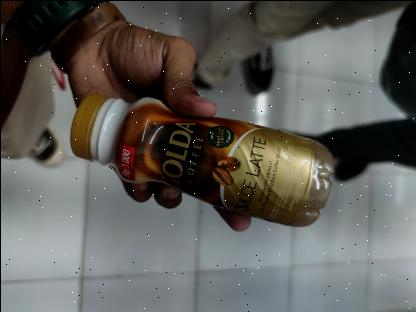Plastic Bottle: (69, 92, 334, 226)
